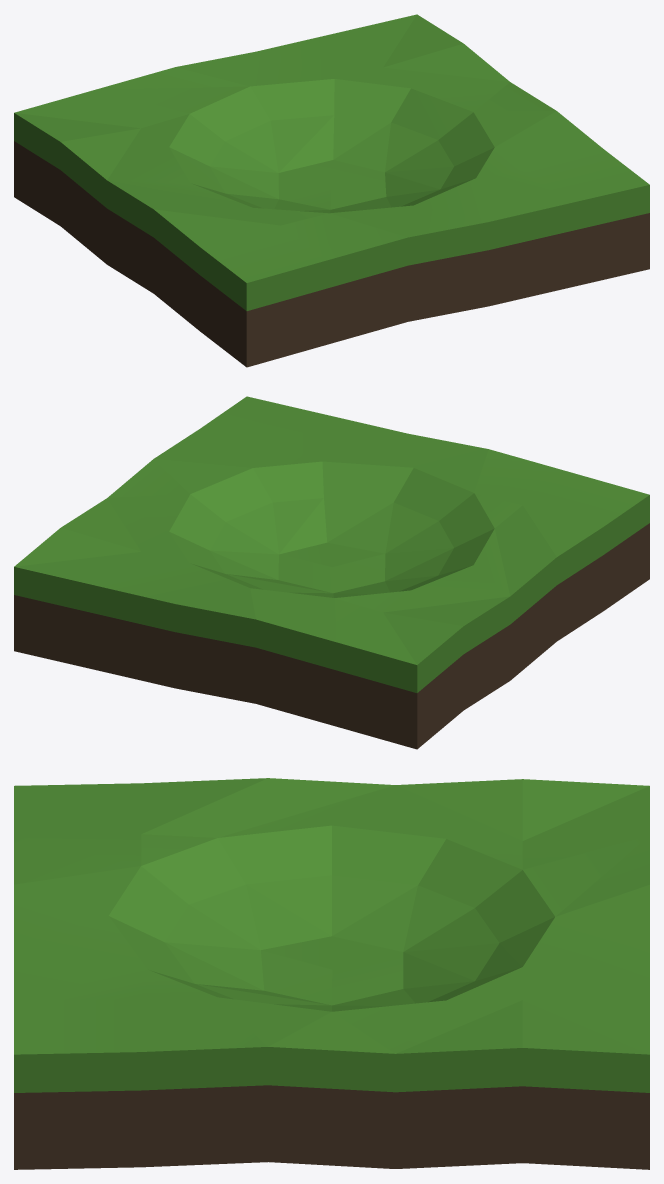
File: terrains_terrain-world-lake.fbx
3 views of the same model, one above another, from view 1: azimuth 30°, elevation 25°; view 2: azimuth 150°, elevation 25°; view 3: azimuth 270°, elevation 25° (orthographic). The views are drawn at different scales.
Visible parts, largest first — view 1: terrains_terrain_world_lake; view 2: terrains_terrain_world_lake; view 3: terrains_terrain_world_lake.
Part boxes in pixels (x1,y1,x2,y2): terrains_terrain_world_lake: (14,14,649,367); terrains_terrain_world_lake: (14,396,649,749); terrains_terrain_world_lake: (14,778,649,1169).
Size of the model in its own units: 200 by 43 by 200.
